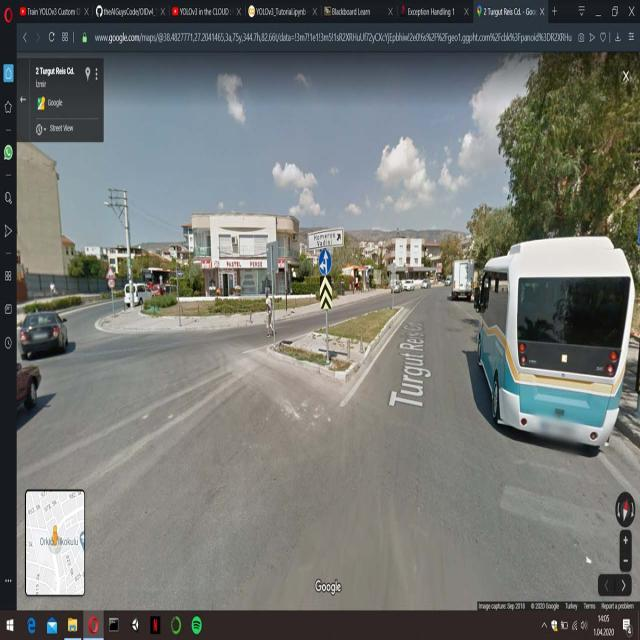ilerisol: (318, 248, 331, 274)
